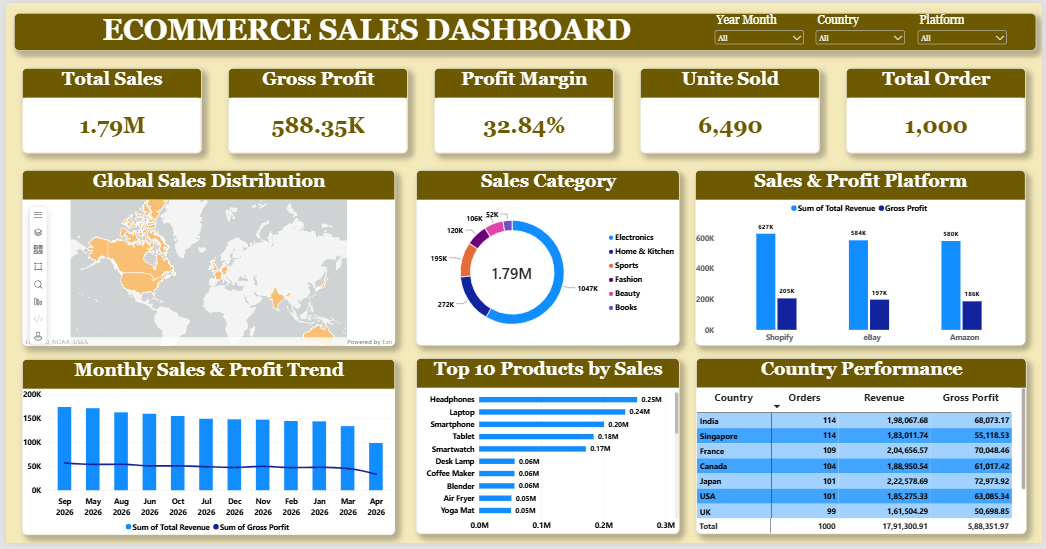

The page's visual inventory and layout, read from the dashboard file:
{"tool":"powerbi","page":{"name":"Page 1","canvas":[1920,1000],"ordinal":0},"visuals":[{"type":"textbox","box":[14,18.6,1893,69.8],"z":0},{"type":"cardVisual","title":"Total Sales","fields":{"Data":["Measure.Total Sales"]},"box":[30.2,120.9,332.6,158.1],"z":1000},{"type":"cardVisual","title":"Gross Profit","fields":{"Data":["Measure.Gross Profit"]},"box":[411.6,120.9,332.6,158.1],"z":2000},{"type":"cardVisual","title":"Profit Margin","fields":{"Data":["Measure.Profit Margin %"]},"box":[793,120.9,332.6,158.1],"z":3000},{"type":"cardVisual","title":"Unite Sold","fields":{"Data":["Measure.Unite Sold Dispaly"]},"box":[1174.4,120.9,332.6,158.1],"z":4000},{"type":"cardVisual","title":"Total Order","fields":{"Data":["Measure.Total Orders Display"]},"box":[1555.8,120.9,332.6,158.1],"z":5000},{"type":"esriVisual","title":"Global Sales Distribution","fields":{"Location":["Ecom_Sales_Data.Customer_Country"],"Size":["Sum(Ecom_Sales_Data.Total Revenue)"]},"box":[30.2,309.3,690.7,325.6],"z":6000},{"type":"donutChart","title":"Sales Category","fields":{"Category":["Ecom_Sales_Data.Product_Category"],"Y":["Sum(Ecom_Sales_Data.Total Revenue)"]},"box":[760,308.3,488.3,325],"z":7000},{"type":"clusteredColumnChart","title":"Sales & Profit Platform","fields":{"Category":["Ecom_Sales_Data.Platform"],"Y":["Sum(Ecom_Sales_Data.Total Revenue)","Measure.Gross Profit"]},"box":[1276.7,308.3,611.7,325],"z":8000},{"type":"lineStackedColumnComboChart","title":"Monthly Sales & Profit Trend","fields":{"Category":["Calendar.Year Month"],"Y":["Sum(Ecom_Sales_Data.Total Revenue)"],"Y2":["Sum(Ecom_Sales_Data.Gross Porfit)"]},"box":[30,658.3,691,326],"z":9000},{"type":"clusteredBarChart","title":"Top 10 Products by Sales","fields":{"Category":["Ecom_Sales_Data.Product_Name"],"Y":["Sum(Ecom_Sales_Data.Total Revenue)"]},"box":[760,658,488,326],"z":10000},{"type":"pivotTable","title":"Country Performance","fields":{"Rows":["Ecom_Sales_Data.Customer_Country"],"Values":["Measure.Total Orders","Sum(Ecom_Sales_Data.Total Revenue)","Sum(Ecom_Sales_Data.Gross Porfit)"]},"box":[1277,658,612,326],"z":11000},{"type":"slicer","fields":{"Values":["Calendar.Year Month"]},"box":[1306.7,18.3,175,70],"z":11001},{"type":"slicer","fields":{"Values":["Ecom_Sales_Data.Customer_Country"]},"box":[1495,18.3,175,70],"z":11002},{"type":"slicer","fields":{"Values":["Ecom_Sales_Data.Platform"]},"box":[1683.3,18.3,175,70],"z":11003}]}

Visuals, with their boxes in screenshot pixels (x1, y1, x2, y2), scaled from the page's 1920x1000 canvas onto the 1046x549 screenshot:
textbox: <bbox>8, 10, 1039, 49</bbox>
"Total Sales" cardVisual: <bbox>16, 66, 198, 153</bbox>
"Gross Profit" cardVisual: <bbox>224, 66, 405, 153</bbox>
"Profit Margin" cardVisual: <bbox>432, 66, 613, 153</bbox>
"Unite Sold" cardVisual: <bbox>640, 66, 821, 153</bbox>
"Total Order" cardVisual: <bbox>848, 66, 1029, 153</bbox>
"Global Sales Distribution" esriVisual: <bbox>16, 170, 393, 349</bbox>
"Sales Category" donutChart: <bbox>414, 169, 680, 348</bbox>
"Sales & Profit Platform" clusteredColumnChart: <bbox>696, 169, 1029, 348</bbox>
"Monthly Sales & Profit Trend" lineStackedColumnComboChart: <bbox>16, 361, 393, 540</bbox>
"Top 10 Products by Sales" clusteredBarChart: <bbox>414, 361, 680, 540</bbox>
"Country Performance" pivotTable: <bbox>696, 361, 1029, 540</bbox>
slicer - Calendar.Year Month: <bbox>712, 10, 807, 48</bbox>
slicer - Ecom_Sales_Data.Customer_Country: <bbox>814, 10, 910, 48</bbox>
slicer - Ecom_Sales_Data.Platform: <bbox>917, 10, 1012, 48</bbox>
